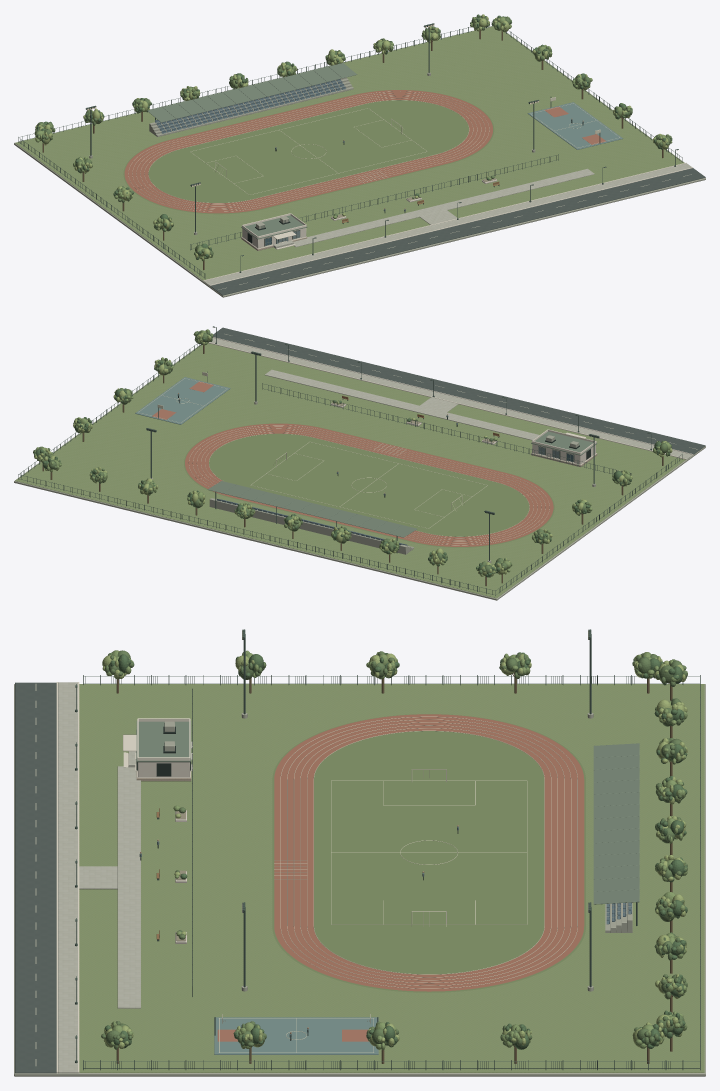
Rendered from athletics-connected.glb.
3 renders of one model, top to bottom at view 1: azimuth 30°, elevation 25°; view 2: azimuth 150°, elevation 25°; view 3: azimuth 270°, elevation 25°, orthographic. The views are drawn at different scales.
Parts seen in each view (by area): view 1: 材质批次_grass, 材质批次_athletics_playing_turf, 材质批次_athletics_ochre_track, 材质批次_asphalt, 材质批次_plaza_paving, 材质批次_poi_marking, 材质批次_poi_service_concrete, 材质批次_sage_metal_roof, 材质批次_street_metal, 材质批次_poi_desaturated_blue, 材质批次_school_court, 材质批次_warm_cream_trim (+4 smaller); view 2: 材质批次_grass, 材质批次_athletics_playing_turf, 材质批次_athletics_ochre_track, 材质批次_asphalt, 材质批次_plaza_paving, 材质批次_street_metal, 材质批次_poi_marking, 材质批次_poi_service_concrete, 材质批次_sage_metal_roof, 材质批次_school_court, 材质批次_warm_cream_trim, 材质批次_leaf_1 (+4 smaller); view 3: 材质批次_grass, 材质批次_athletics_playing_turf, 材质批次_athletics_ochre_track, 材质批次_asphalt, 材质批次_plaza_paving, 材质批次_sage_metal_roof, 材质批次_poi_marking, 材质批次_street_metal, 材质批次_school_court, 材质批次_poi_service_concrete, 材质批次_leaf_1, 材质批次_leaf_3 (+5 smaller).
Part boxes in pixels (x1,y1,x2,y2): 材质批次_grass: (15,26,684,280); 材质批次_athletics_playing_turf: (123,90,494,214); 材质批次_athletics_ochre_track: (124,90,492,213); 材质批次_asphalt: (210,168,705,295); 材质批次_plaza_paving: (203,163,692,285); 材质批次_poi_marking: (128,91,691,289); 材质批次_poi_service_concrete: (14,33,705,297); 材质批次_sage_metal_roof: (147,63,357,239); 材质批次_street_metal: (18,21,682,278); 材质批次_poi_desaturated_blue: (155,79,346,133); 材质批次_school_court: (527,102,623,149); 材质批次_warm_cream_trim: (203,162,692,285); 材质批次_grass: (15,343,685,598); 材质批次_athletics_playing_turf: (184,423,554,547); 材质批次_athletics_ochre_track: (185,423,553,546); 材质批次_asphalt: (213,327,705,454); 材质批次_plaza_paving: (209,338,692,459); 材质批次_street_metal: (18,326,682,595); 材质批次_poi_marking: (138,334,697,545); 材质批次_poi_service_concrete: (14,345,705,600); 材质批次_sage_metal_roof: (207,431,597,537); 材质批次_school_court: (135,377,230,424); 材质批次_warm_cream_trim: (208,337,693,465); 材质批次_leaf_1: (33,330,669,576); 材质批次_grass: (79,684,704,1072); 材质批次_athletics_playing_turf: (272,714,585,992); 材质批次_athletics_ochre_track: (274,714,584,991); 材质批次_asphalt: (15,682,56,1073); 材质批次_plaza_paving: (58,682,140,1073); 材质批次_sage_metal_roof: (136,721,639,904); 材质批次_poi_marking: (35,684,577,1065); 材质批次_street_metal: (75,629,700,1070); 材质批次_school_court: (214,1017,378,1054); 材质批次_poi_service_concrete: (14,684,705,1076); 材质批次_leaf_1: (101,650,687,1049); 材质批次_leaf_3: (102,652,687,1049).
Size of the model in its own units: 160 by 16.8 by 120.
Materials: 30 (5 with a texture image).
